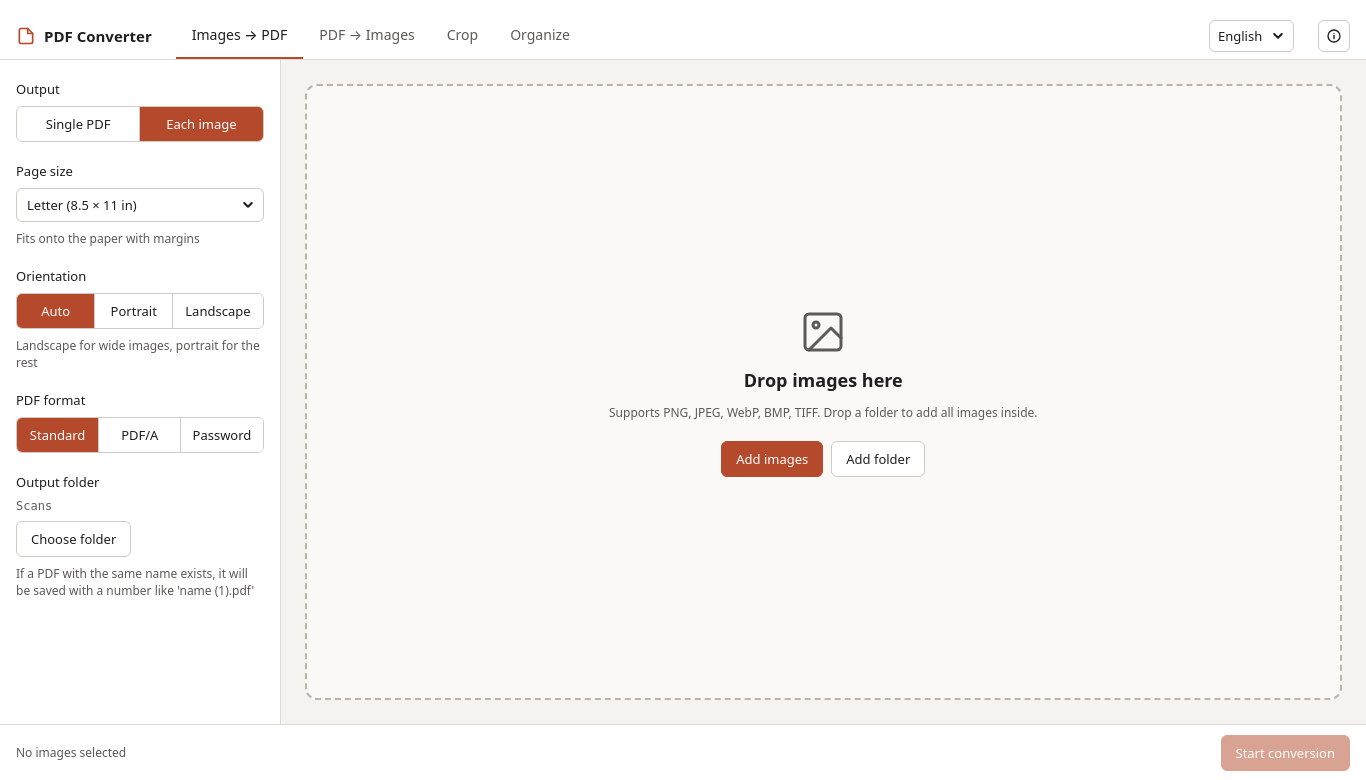
Test: App › restoring the settings › starts in the saved language and settings
Expected: the dropdown named "Language" shows "English", [1209,20,1294,52]
Expected: the dropdown labelled "Page size" shows "Letter (8.5 × 11 in)", [16,188,264,222]
Click the tab "PDF → Images". click: (367, 36)
box: [303,12,431,59]
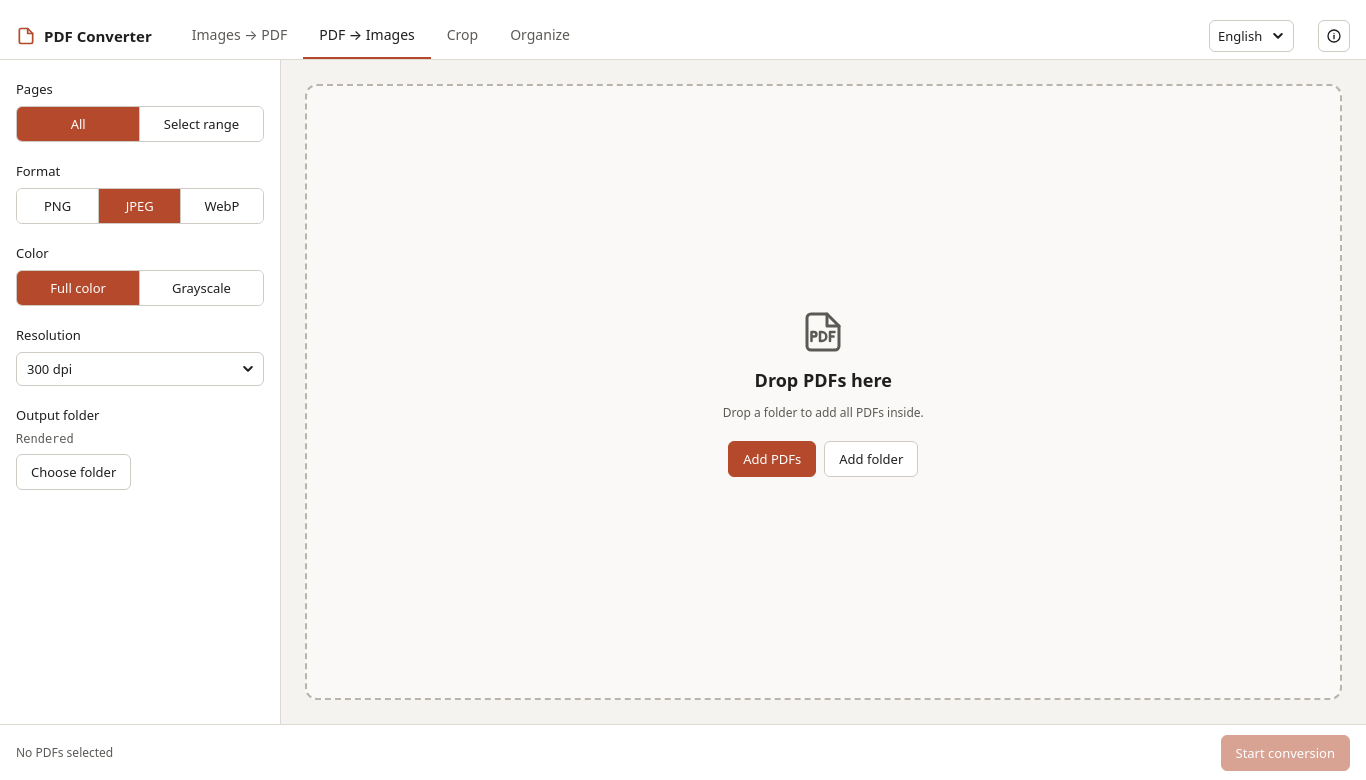
Expected: the dropdown labelled "Resolution" shows "300 dpi", [16,352,264,386]
Expected: the text "Rendered" is shown, [16,432,74,446]
